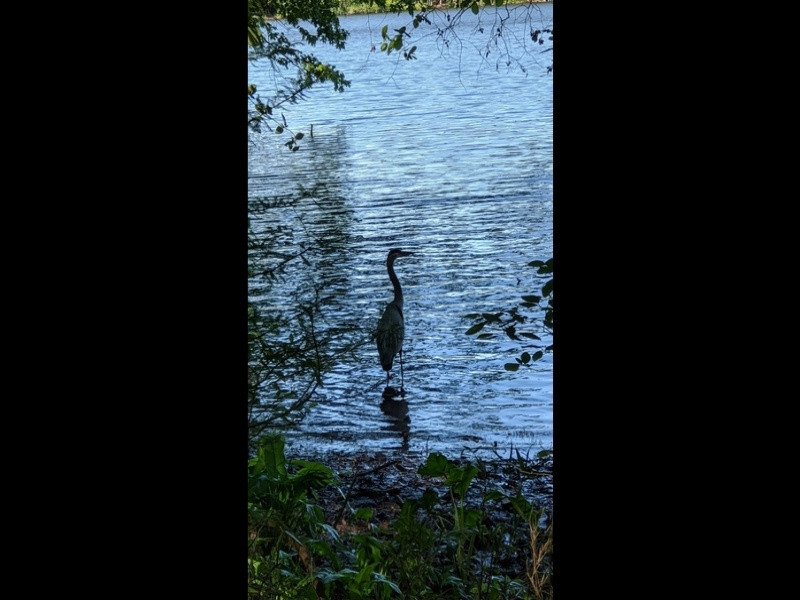heron: (376, 247, 415, 388)
